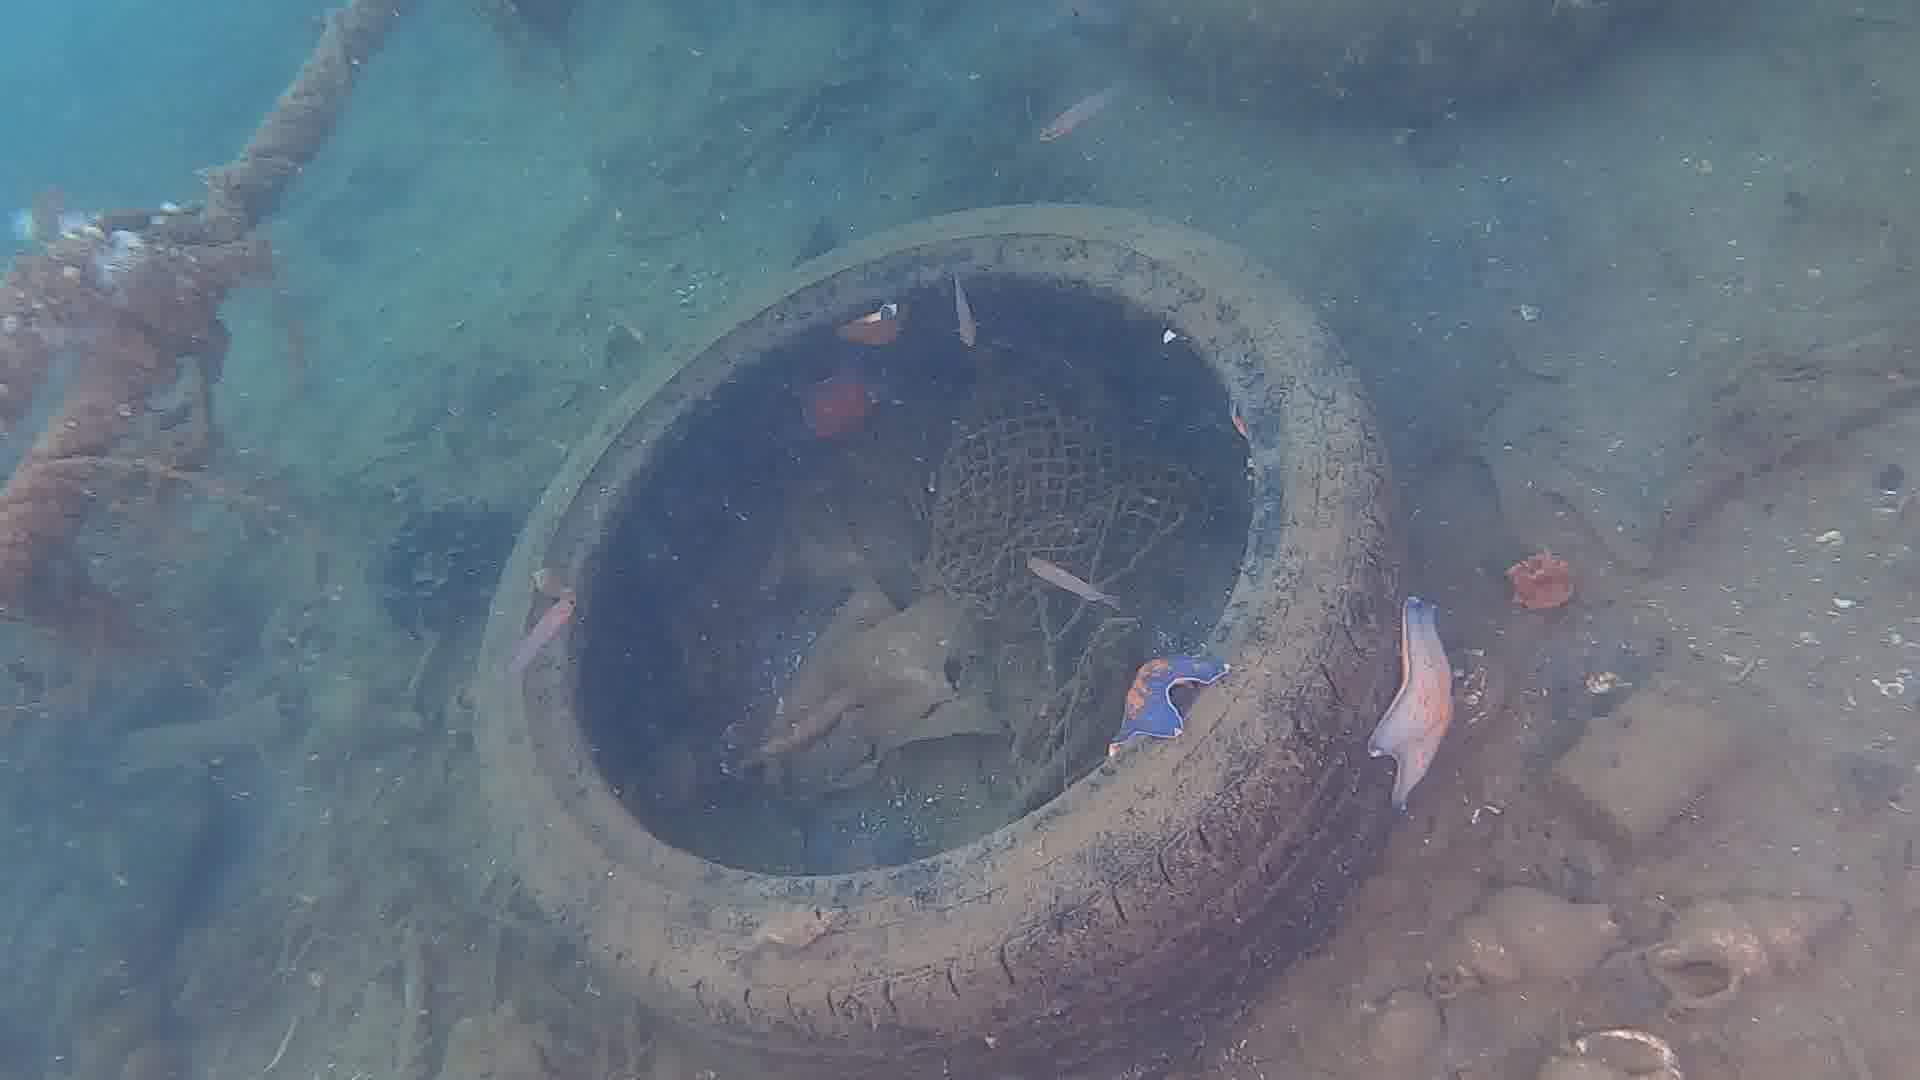fish net: (902, 353, 1220, 644)
tire: (465, 193, 1415, 1080)
